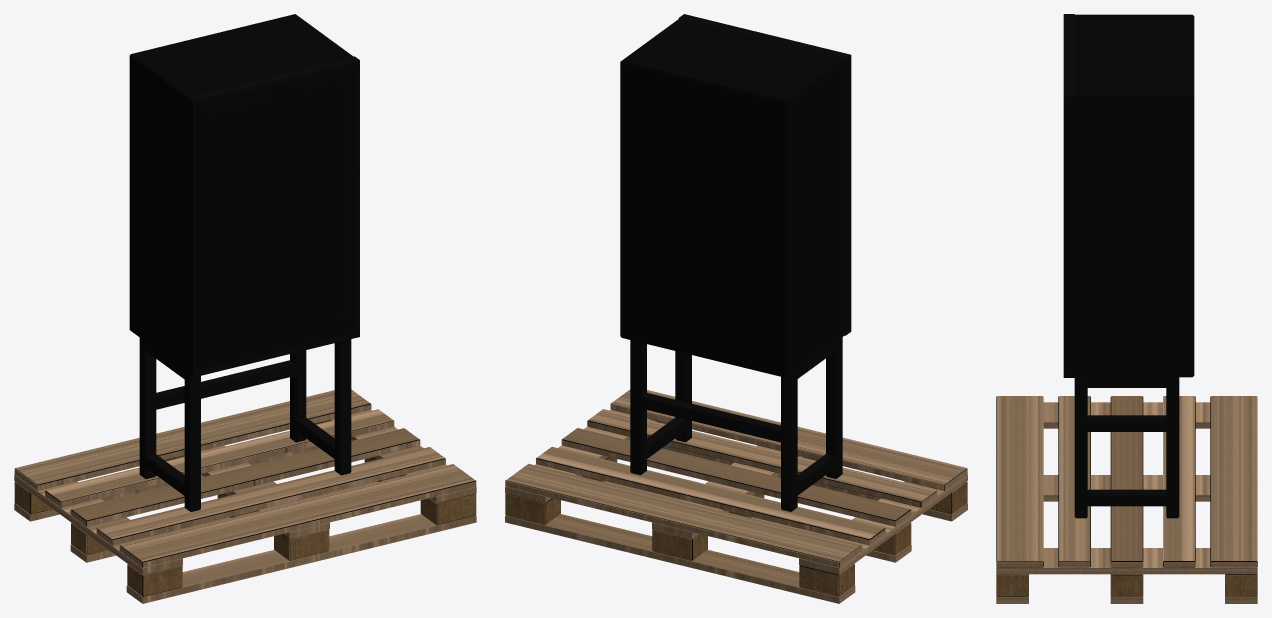
Rendered from obj_target_box_pallet.glb.
3 renders of one model, left to right at view 1: azimuth 30°, elevation 25°; view 2: azimuth 150°, elevation 25°; view 3: azimuth 270°, elevation 25°, orthographic.
Visible parts, largest first — view 1: target_box_pallet_body; view 2: target_box_pallet_body; view 3: target_box_pallet_body.
Part boxes in pixels (x1,y1,x2,y2): target_box_pallet_body: [14, 14, 476, 603]; target_box_pallet_body: [505, 14, 967, 603]; target_box_pallet_body: [996, 14, 1257, 603].
Bounding box in the file's own units: 1.2 × 1.57 × 0.8.
Materials: 1 (1 with a texture image).
